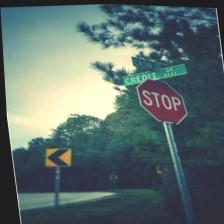Stop: (134, 75, 188, 125)
